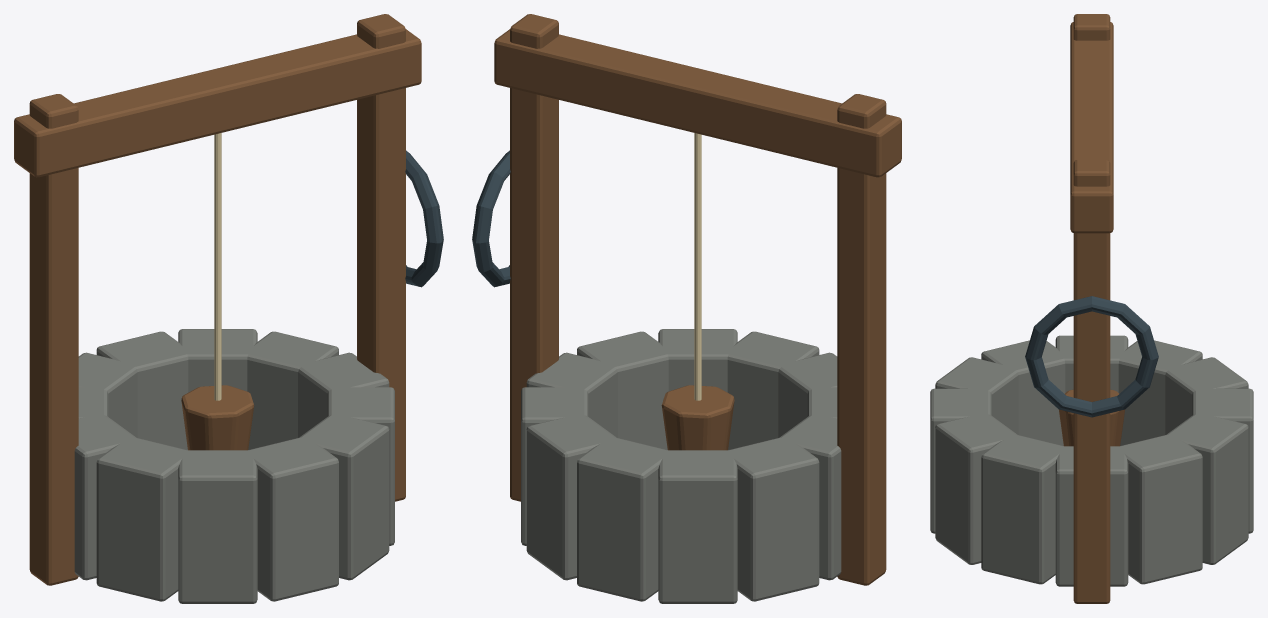
Rendered from village_well.glb.
3 views of the same model, side by side, from view 1: azimuth 30°, elevation 25°; view 2: azimuth 150°, elevation 25°; view 3: azimuth 270°, elevation 25° (orthographic). The views are drawn at different scales.
Visible parts, largest first — view 1: WellStone, WellPost, WindingWheel, Rope; view 2: WellStone, WellPost, WindingWheel, Rope; view 3: WellStone, WellPost, WindingWheel.
Part boxes in pixels (<box>): WellStone: <box>74,329,394,603</box>; WellPost: <box>14,14,421,585</box>; WindingWheel: <box>405,150,443,287</box>; Rope: <box>214,133,221,400</box>; WellStone: <box>521,329,841,603</box>; WellPost: <box>494,14,901,585</box>; WindingWheel: <box>472,150,510,287</box>; Rope: <box>694,133,701,400</box>; WellStone: <box>930,335,1253,586</box>; WellPost: <box>1058,14,1125,603</box>; WindingWheel: <box>1025,296,1158,417</box>.
Bounding box in the file's own units: 2.65 × 3.1 × 2.1.
